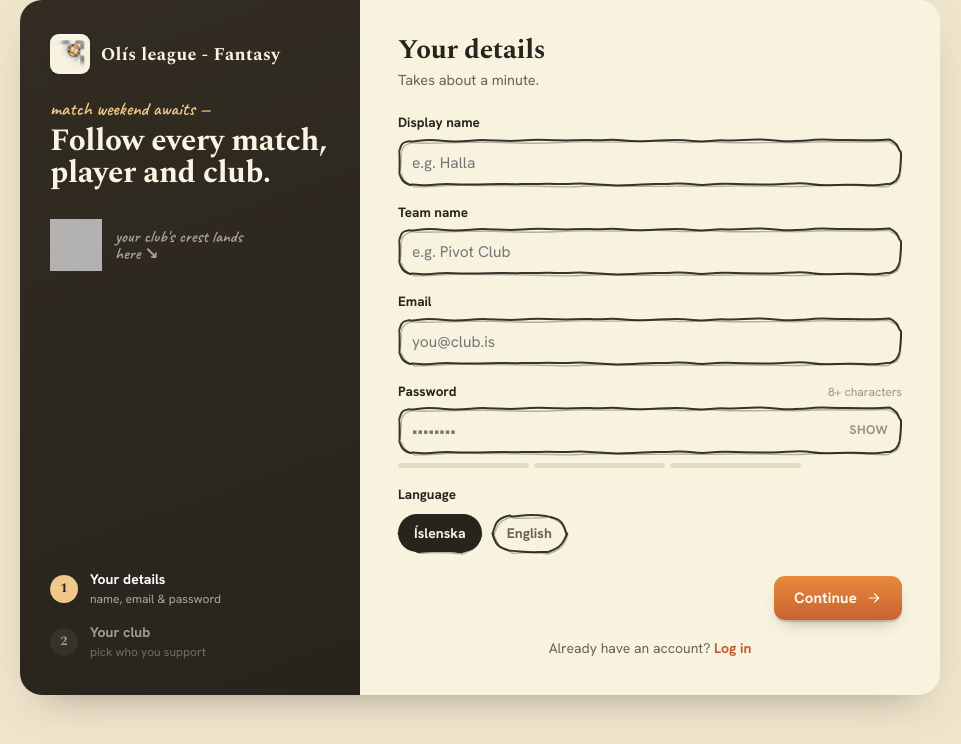
Test case: RegisterPage (two-step) › collects details, then picking a club registers and celebrates
Type "Halla" into the field labelled "Display name" at (650, 162), box [398,139,902,186]
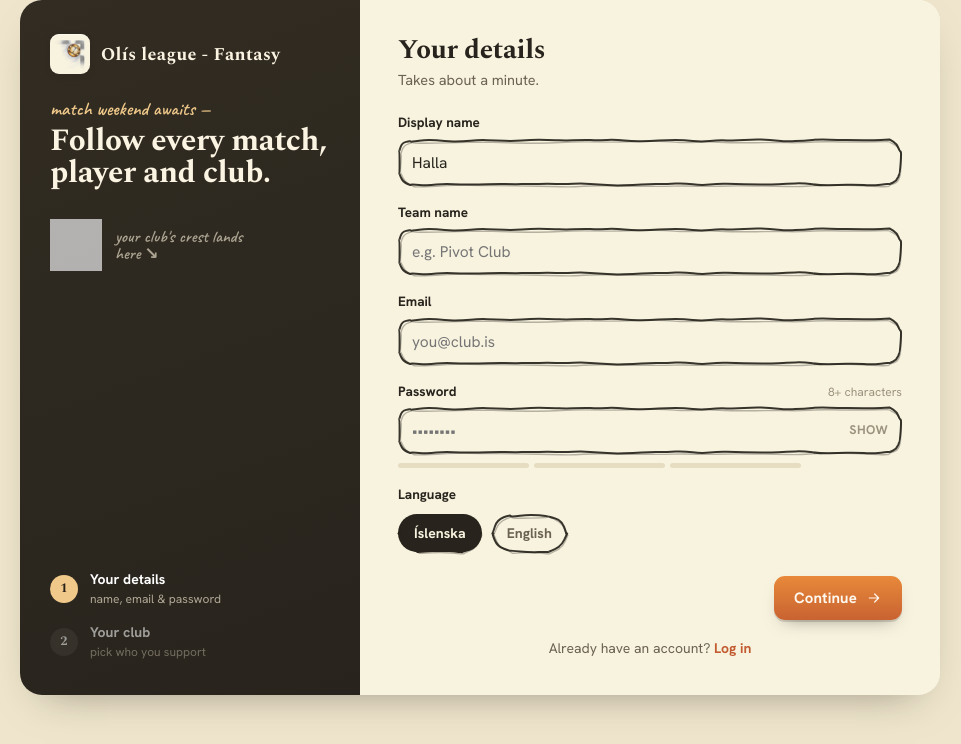
Type "Pivot Club" into the field labelled "Team name" at (650, 252), box [398,228,902,275]
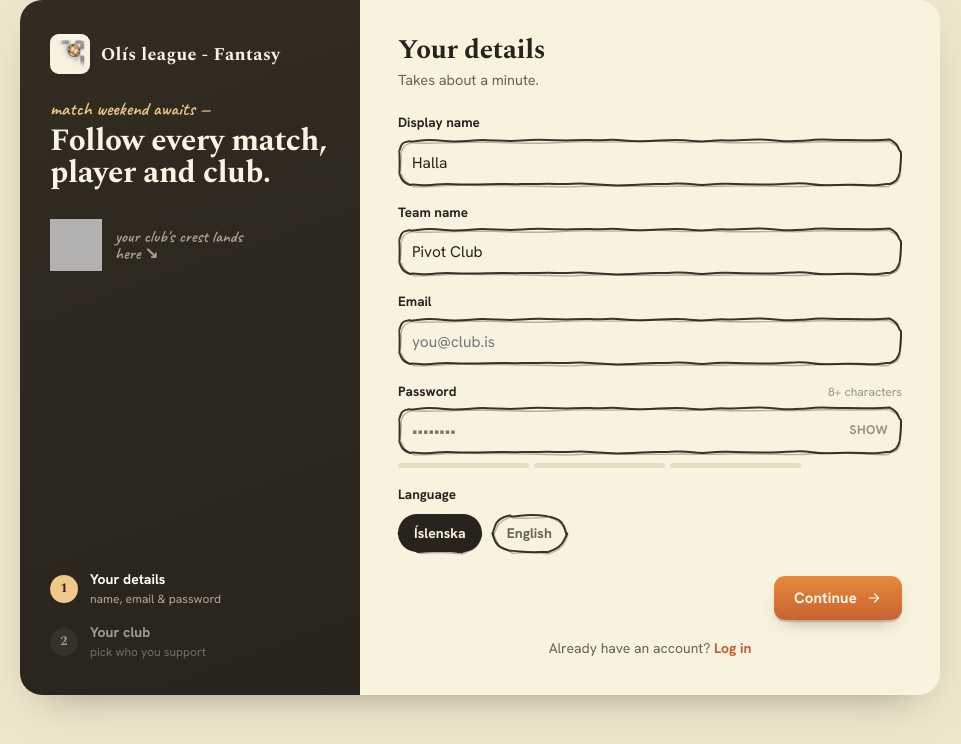
Type "a@b.is" into the field labelled "Email" at (650, 341), box [398,318,902,365]
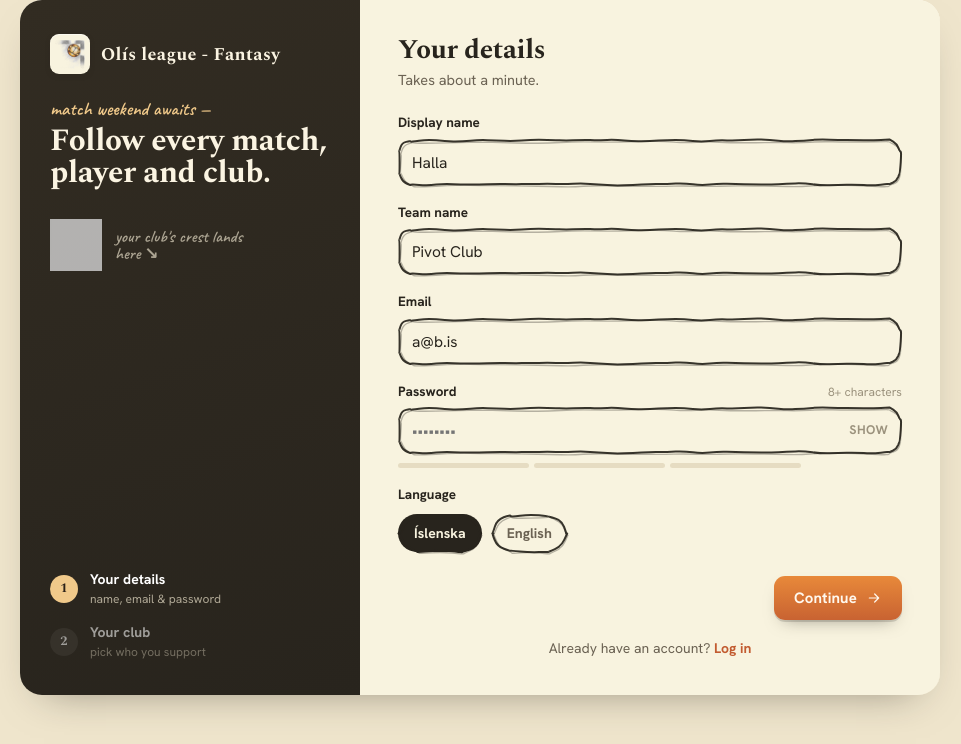
Type "hunter2hunter2" into the password field labelled "Password" at (617, 431), box [398,407,835,454]
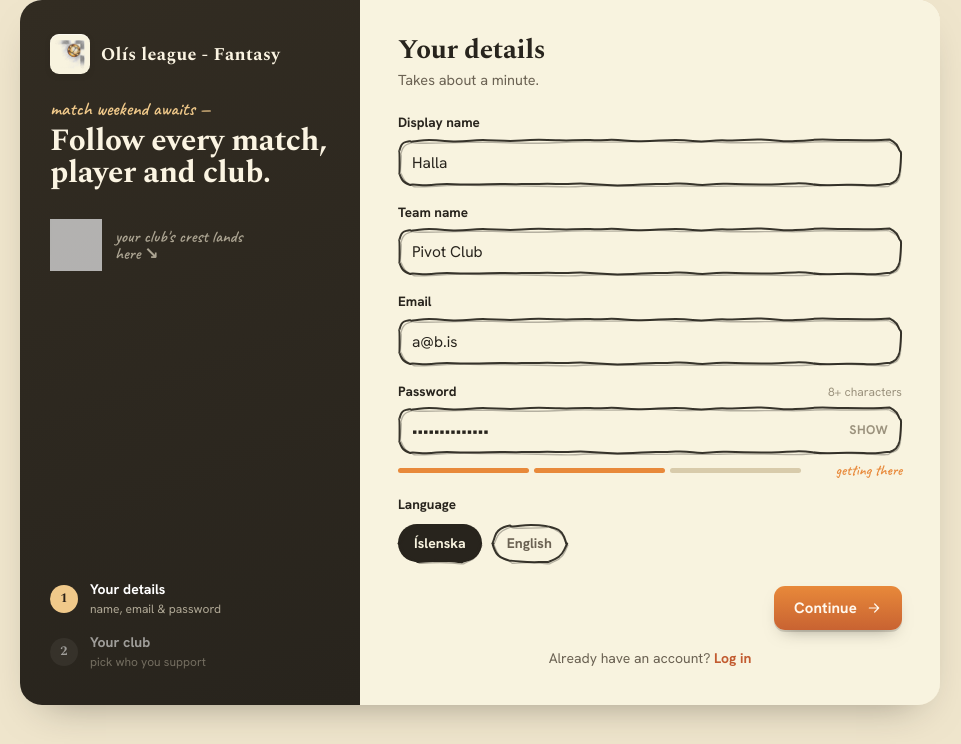
Click the button "Continue" at (838, 608), box [774,586,902,630]
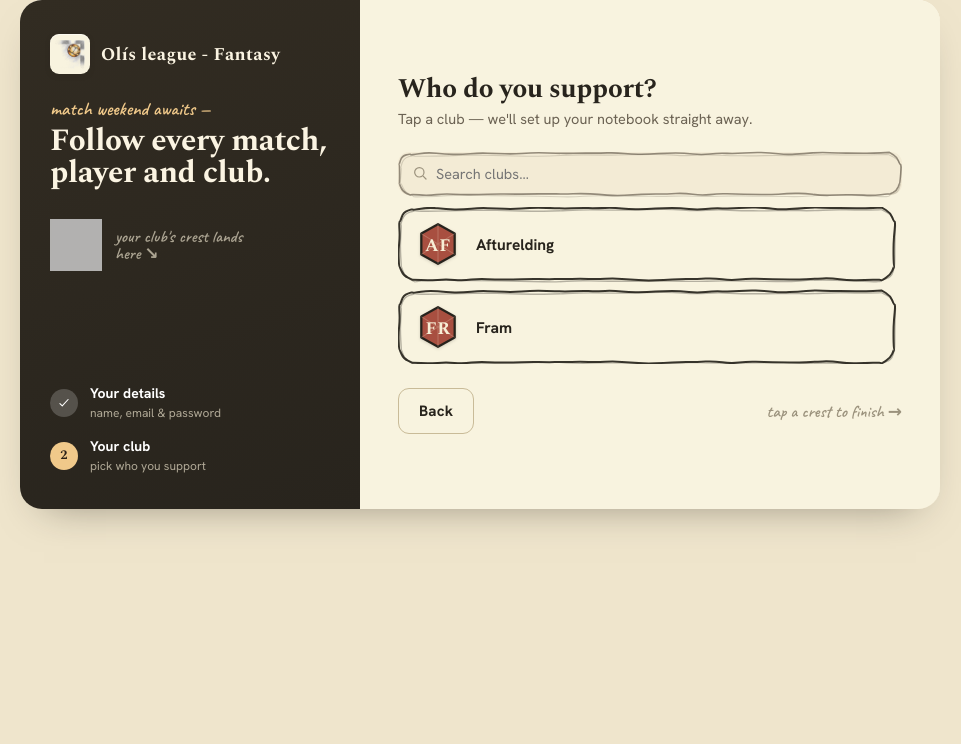
Click the button "AF Afturelding" at (647, 244), box [398,207,896,281]
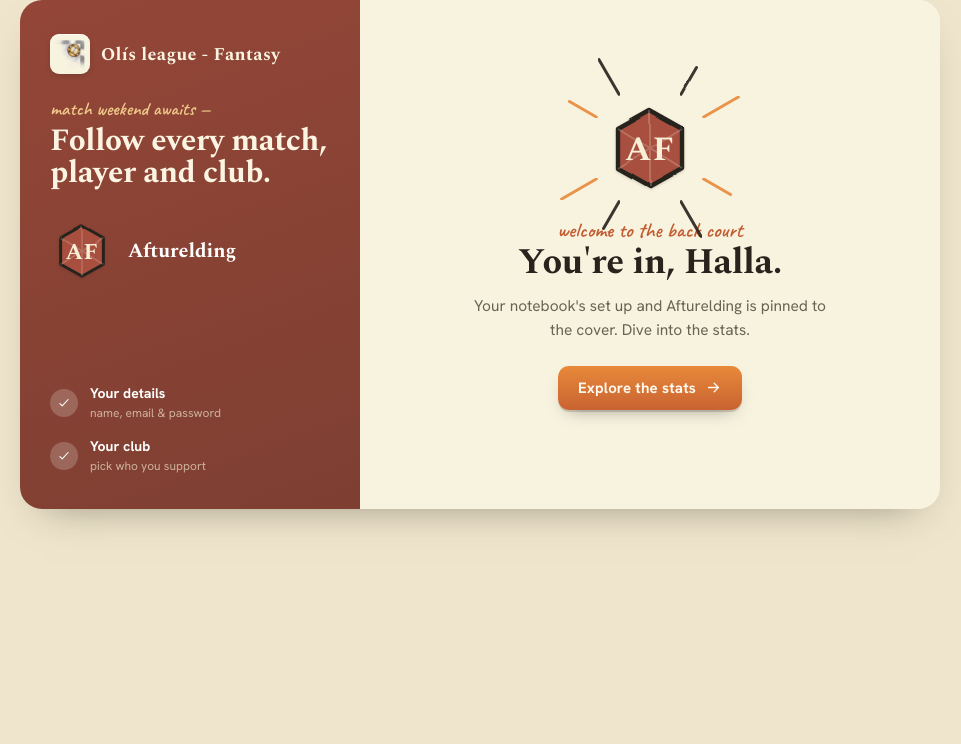
Check: the heading "You're in, Halla." is shown, box [518,235,782,290]
